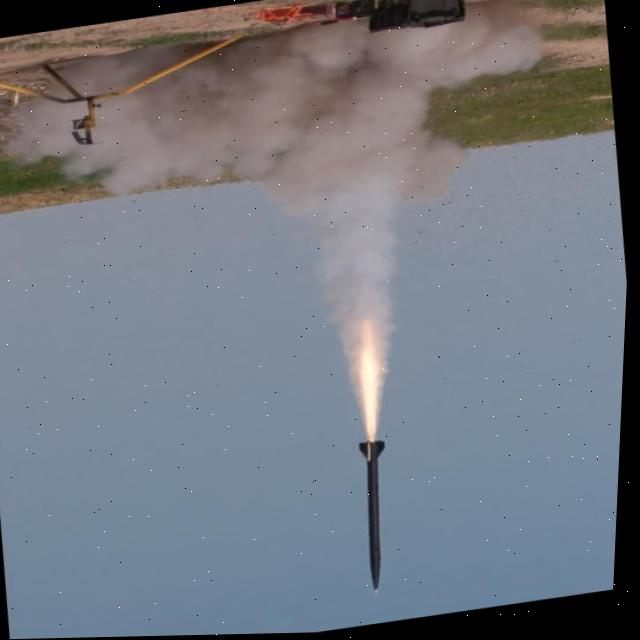missile: (349, 422, 426, 600)
